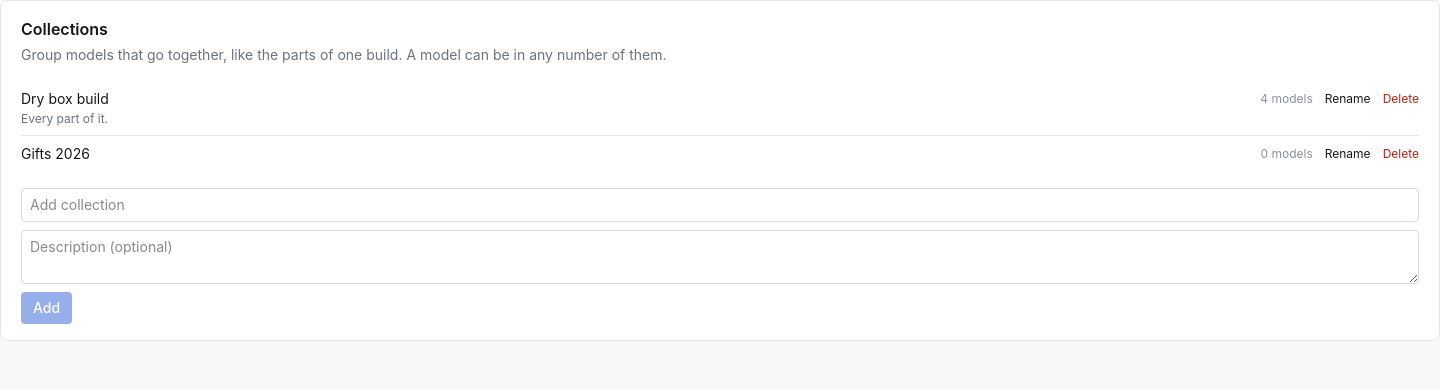
Test: CollectionsSection › shows the server refusal for a duplicate name and keeps what was typed
Type "Lamp" into the field named "New collection name".
click(720, 205); type("Lamp")  # box [21,188,1419,222]
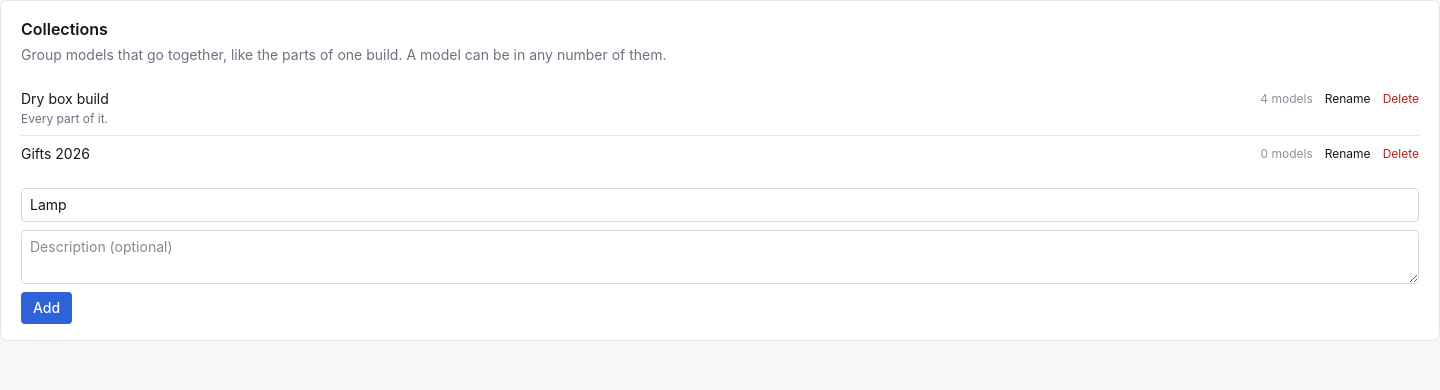
Click the button "Add".
click(47, 308)  # box [21,292,72,324]
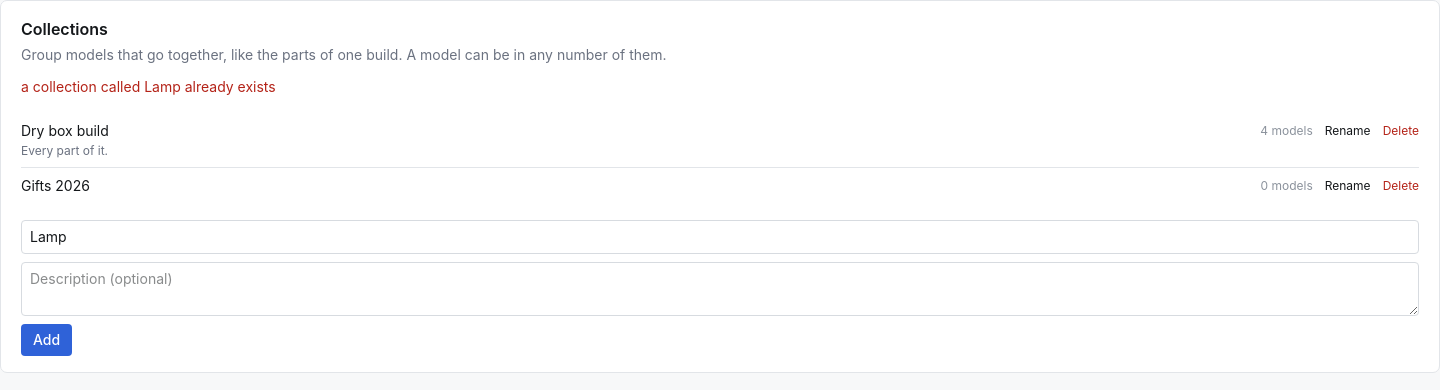
Expected: the message shows "already exists", [21,78,276,95]
